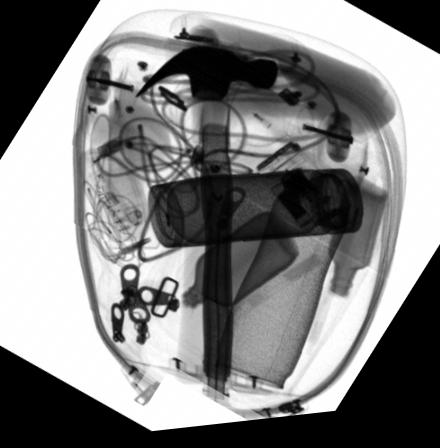Hammer: (132, 48, 279, 388)
